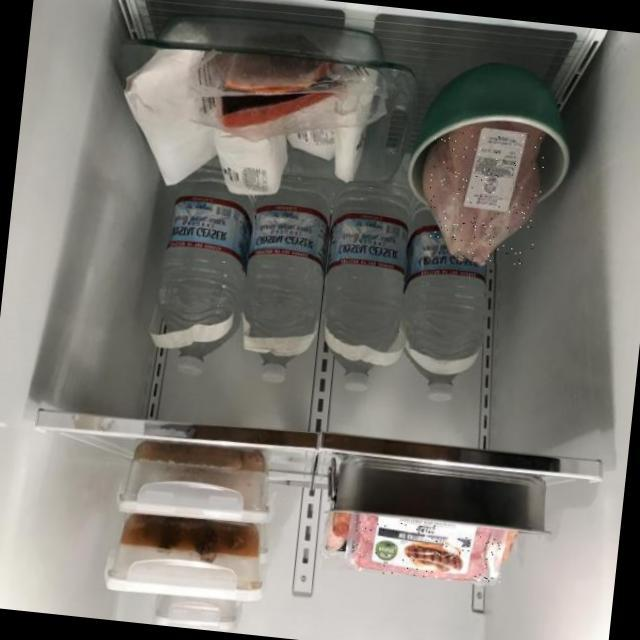Carne pollo: (422, 123, 546, 266)
Carne vacuno: (349, 515, 504, 584)
